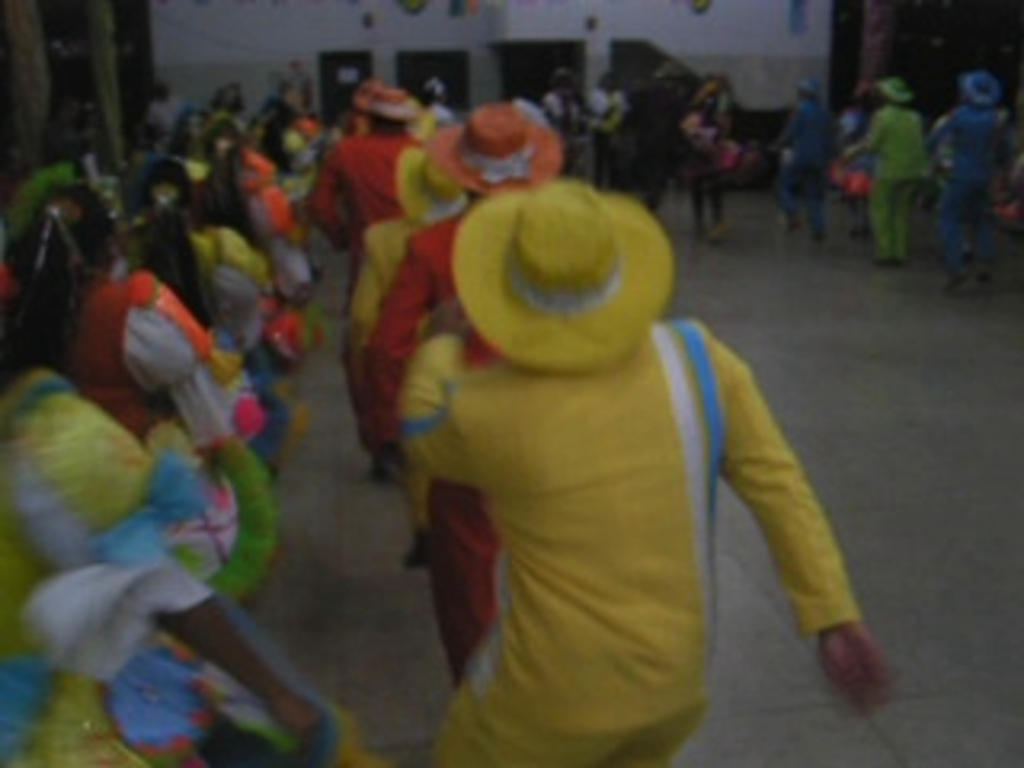Person: (0, 61, 1024, 767)
